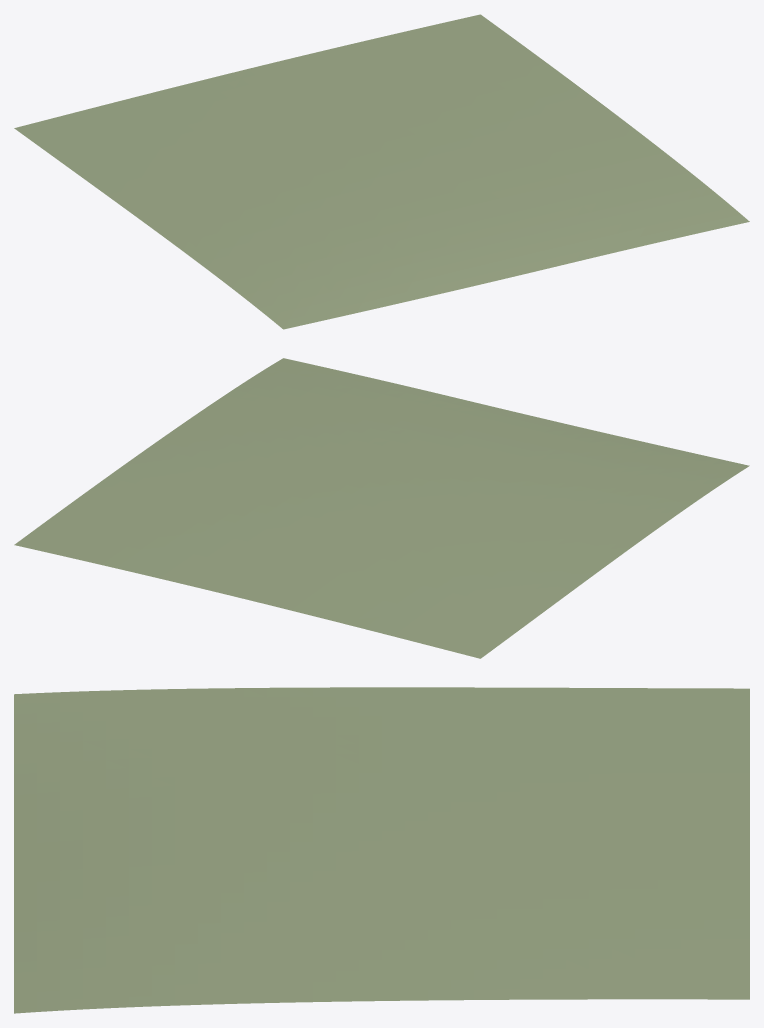
The model's file is expanse-0-3.glb.
The picture shows the model from 3 angles, top to bottom: view 1: azimuth 30°, elevation 25°; view 2: azimuth 150°, elevation 25°; view 3: azimuth 270°, elevation 25°; orthographic projection. The views are drawn at different scales.
Visible parts, largest first — view 1: expanse-0-3; view 2: expanse-0-3; view 3: expanse-0-3.
Part boxes in pixels (x1,y1,x2,y2): expanse-0-3: (14,14,749,329); expanse-0-3: (14,358,749,658); expanse-0-3: (14,687,749,1013).
Size of the model in its own units: 256 by 6.76 by 256.
